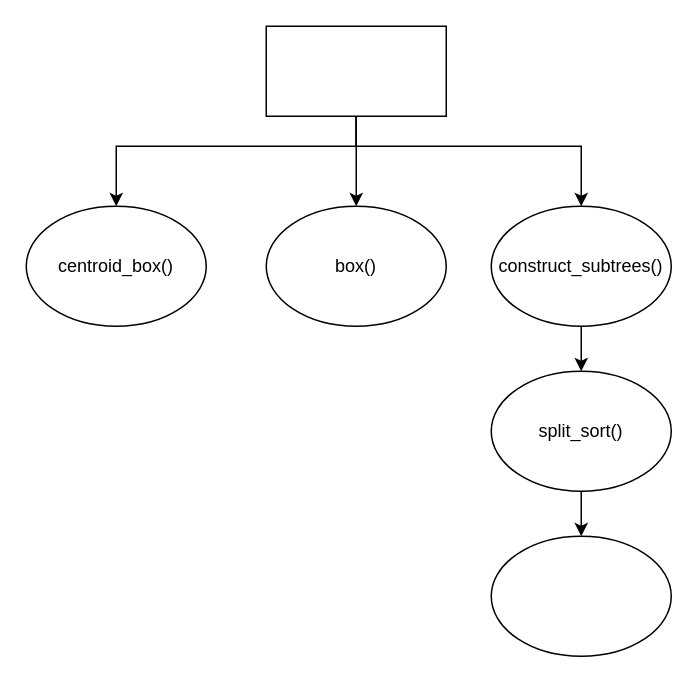
The diagram is 698 pixels wide and 683 high, and some of its shapes have lost their labels. Each missing label, with the centre of its shape:
"create_partitions()" belongs at point 580,595.
"Octree" belongs at point 355,70.
